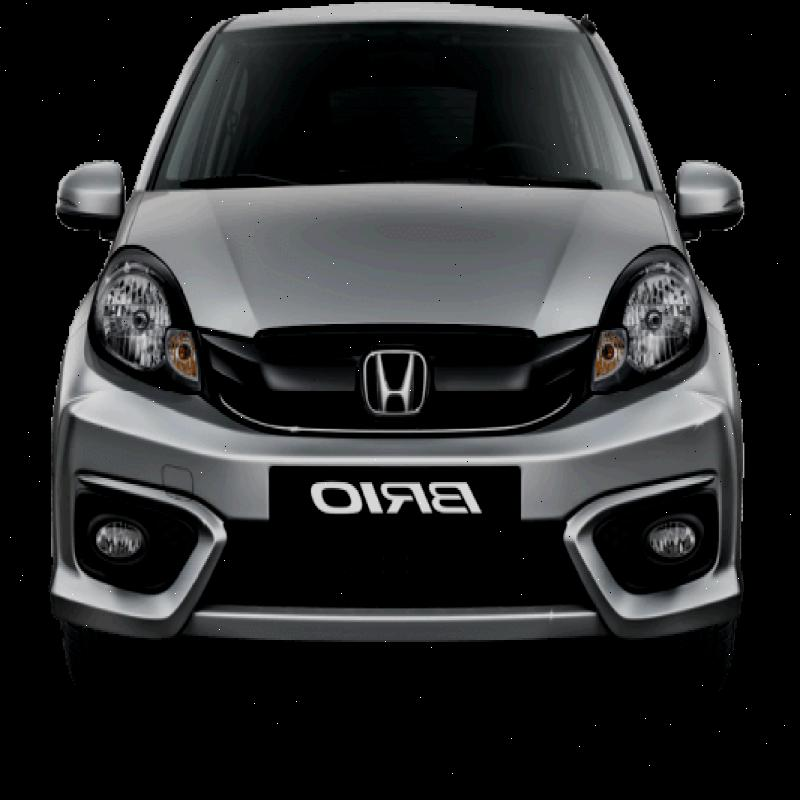car: (47, 17, 759, 732)
